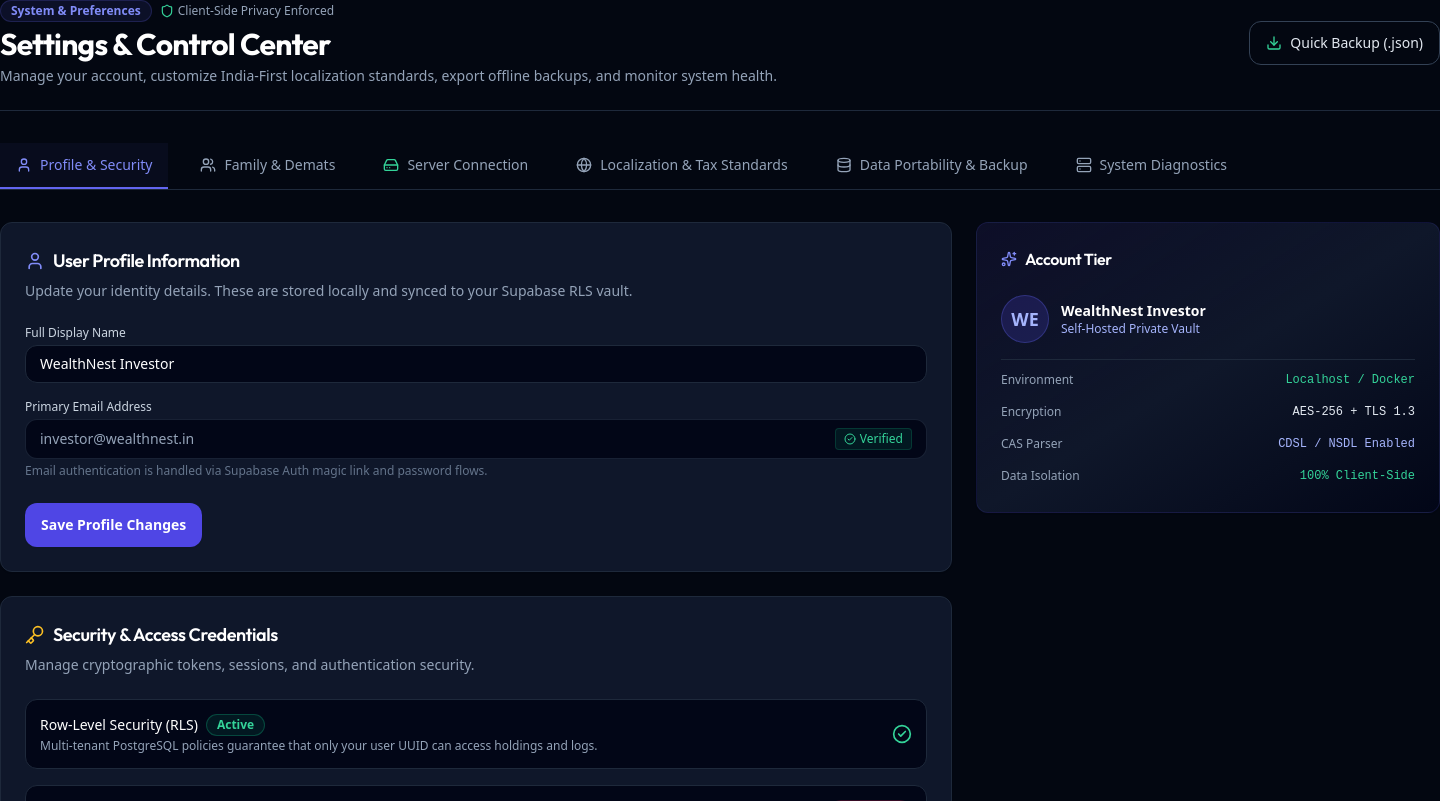
Test: SettingsPage Component (Sprint 3) › navigates to System Diagnostics tab and displays clean architecture layers
Step 1. Click the button "System Diagnostics" → x=1151, y=166, box top-left (1060, 143), bottom-right (1243, 189)
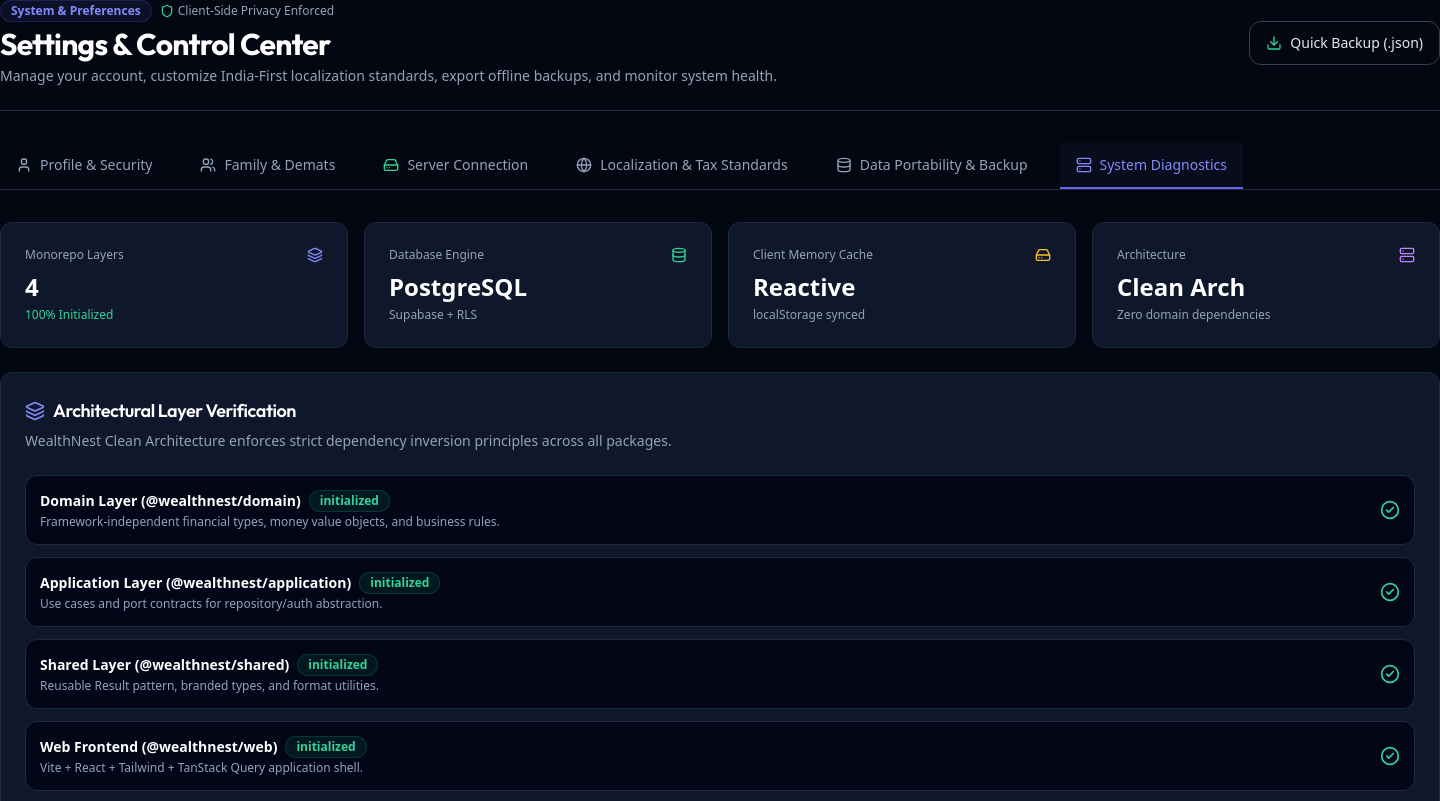
Expected: the text "Monorepo Layers" is shown, top-left (25, 247), bottom-right (124, 263)
Expected: the text "Database Engine" is shown, top-left (389, 247), bottom-right (484, 263)
Expected: the heading "Architectural Layer Verification" is shown, top-left (25, 399), bottom-right (296, 422)
